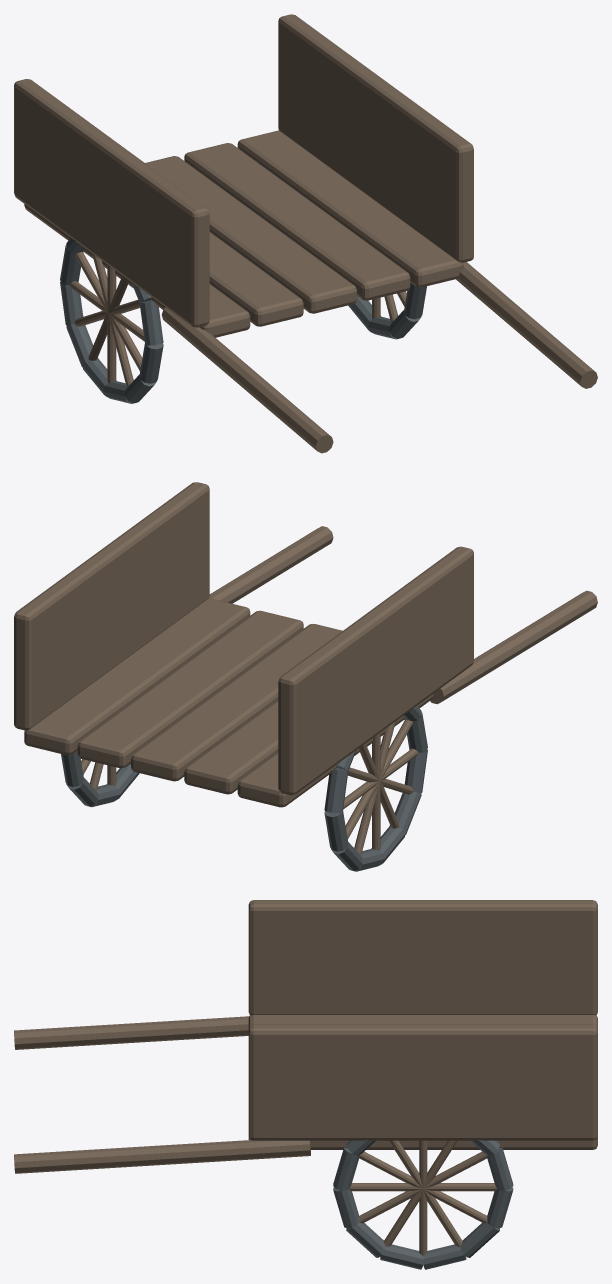
Rendered from handcart.glb.
3 renders of one model, top to bottom at view 1: azimuth 30°, elevation 25°; view 2: azimuth 150°, elevation 25°; view 3: azimuth 270°, elevation 25°, orthographic. The views are drawn at different scales.
Visible parts, largest first — view 1: Body.060; view 2: Body.060; view 3: Body.060.
Part boxes in pixels (x1,y1,x2,y2): Body.060: (14, 14, 597, 453); Body.060: (14, 482, 597, 871); Body.060: (14, 900, 597, 1269).
Bounding box in the file's own units: 1.11 × 0.9494 × 2.07.
